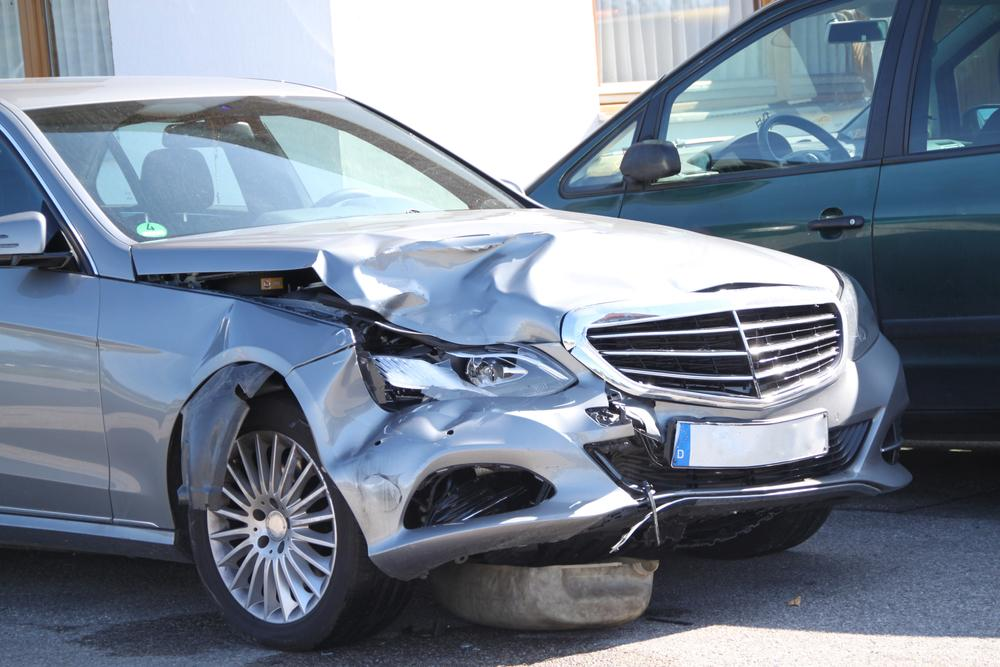dent: (313, 233, 571, 345), (311, 348, 481, 482), (103, 300, 237, 401)
lamp broken: (348, 308, 579, 407)
